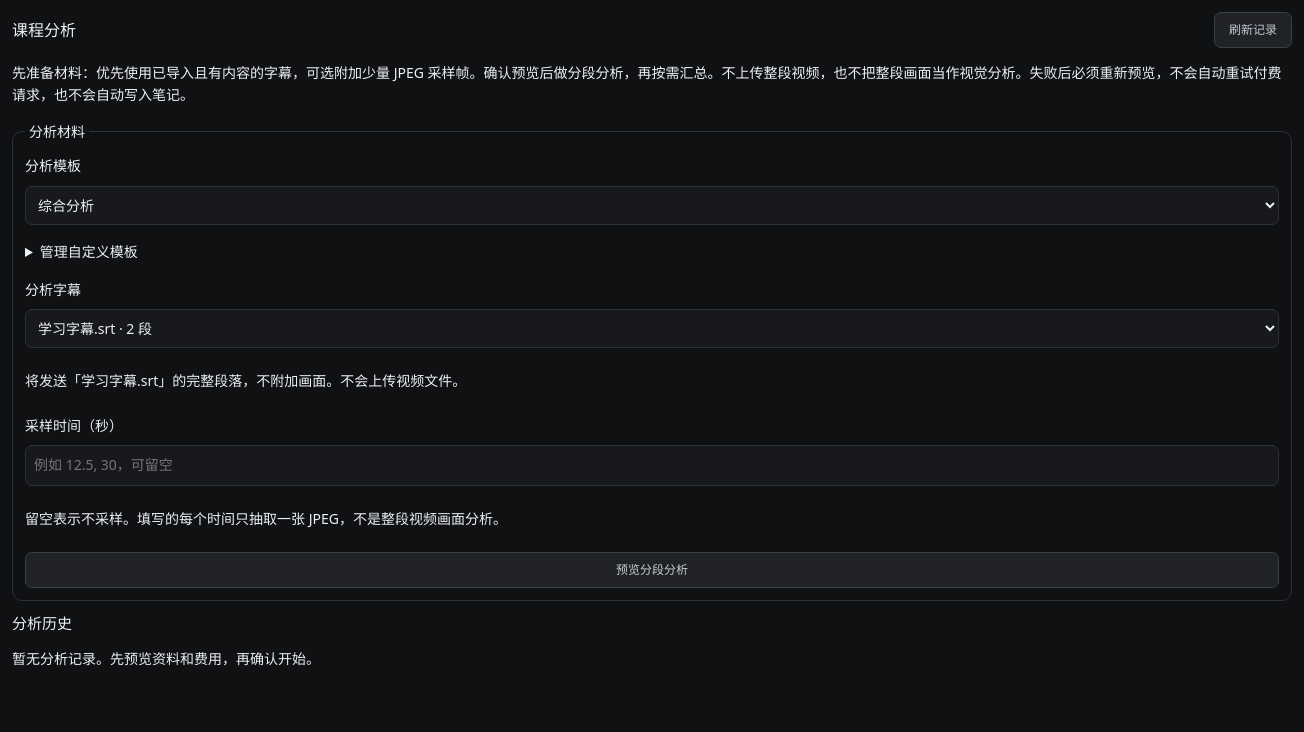
Test: previews explicit materials and costs but sends no paid task until separate consent
Type "12.5, 30" into the field labelled "采样时间（秒）". click: (652, 465)
box: 25,445 -> 1279,486
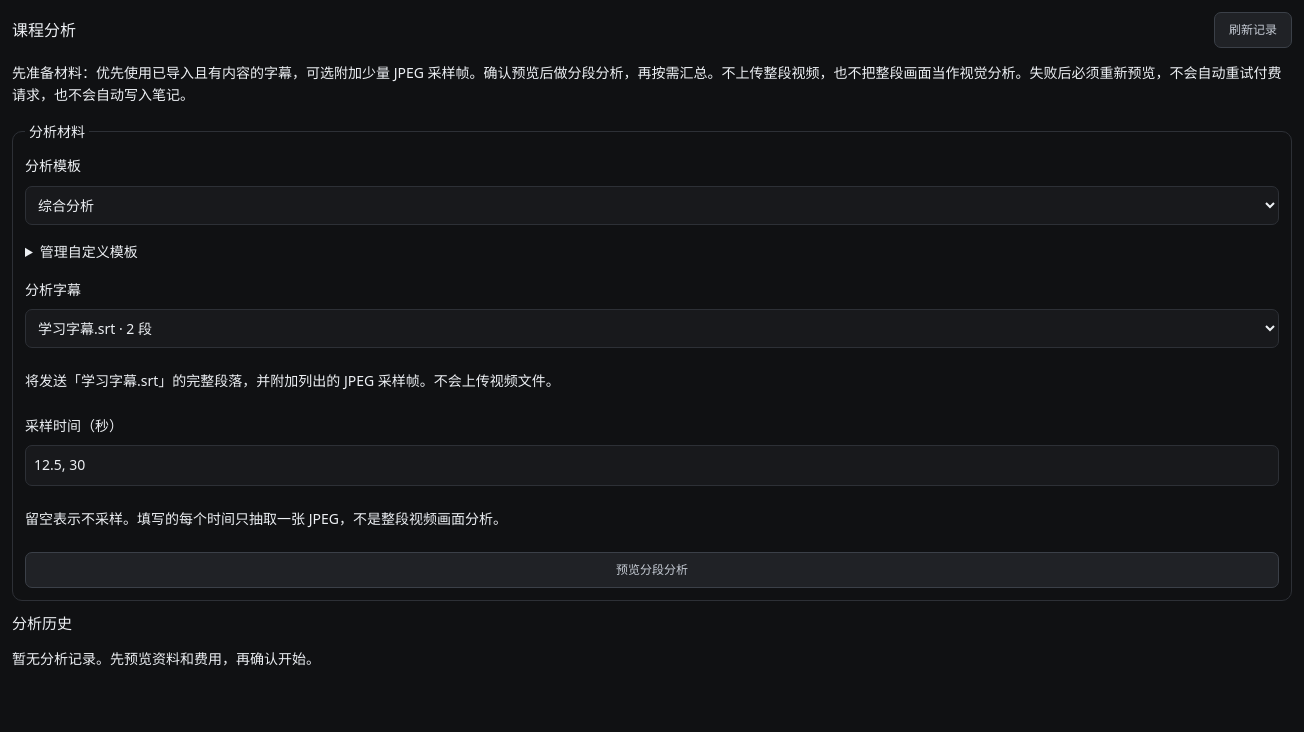
Click the button "预览分段分析". click: (652, 570)
box: 25,552 -> 1279,588
(page scrolled)
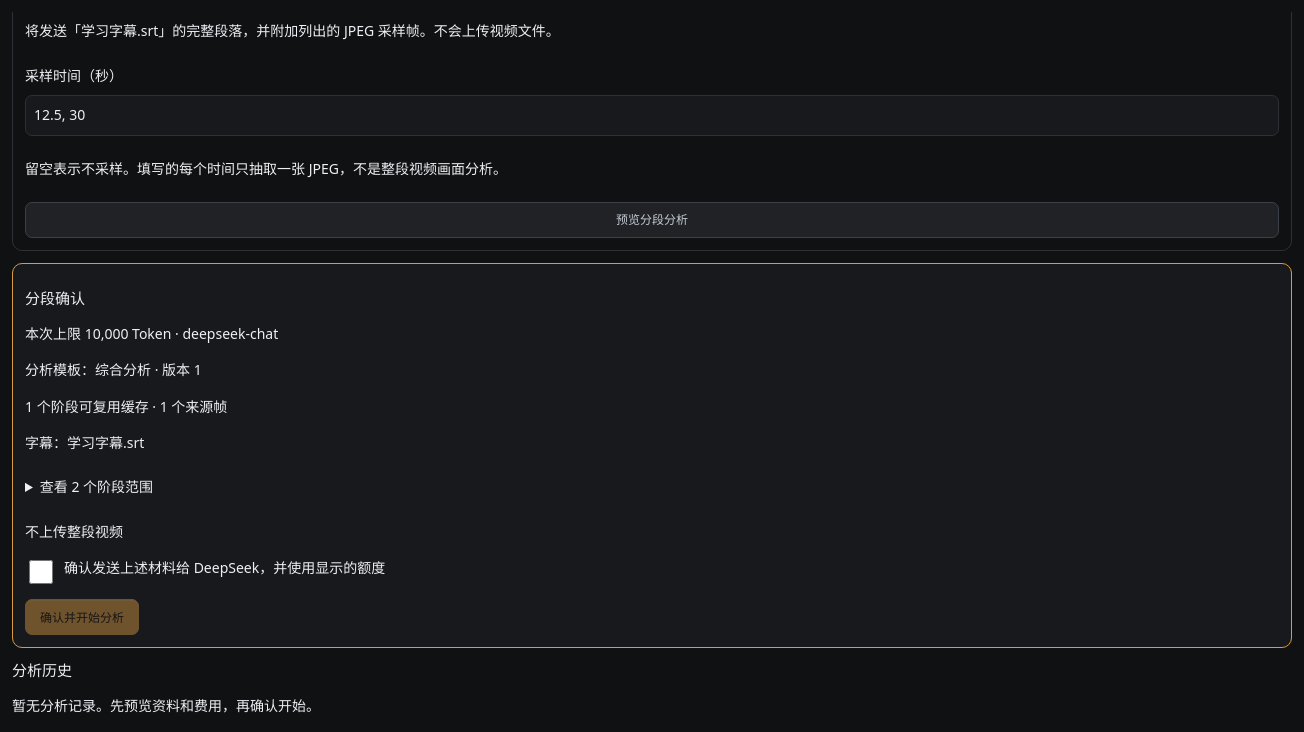
expect the text "本次上限 10,000 Token · deepseek-chat" is shown: met, box 25,324 -> 278,343
expect the button "确认并开始分析" is disabled: met, box 25,599 -> 139,635
expect the text "1 个阶段可复用缓存 · 1 个来源帧" is shown: met, box 25,397 -> 227,416
Click the checkbox labelled "确认发送上述材料给 DeepSeek，并使用显示的额度". click: (41, 572)
box: 29,560 -> 53,584
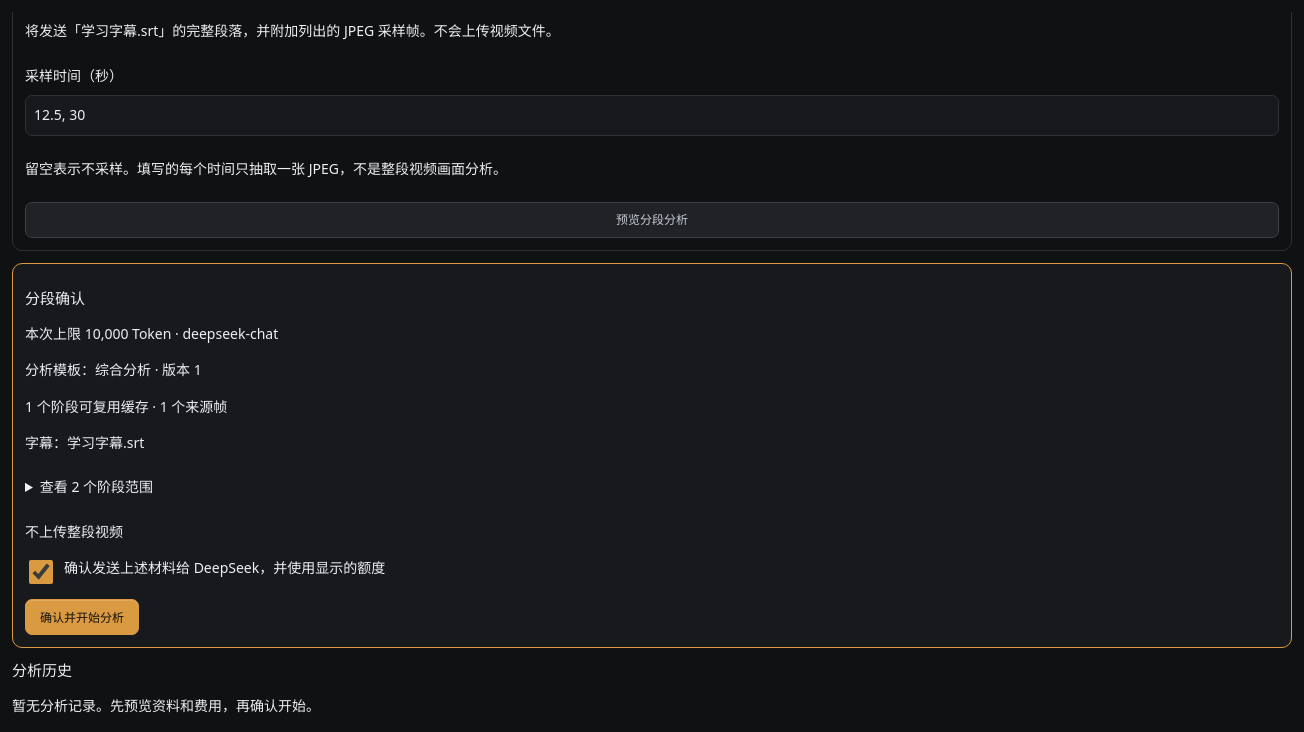
Click the button "确认并开始分析". click: (82, 617)
box: 25,599 -> 139,635
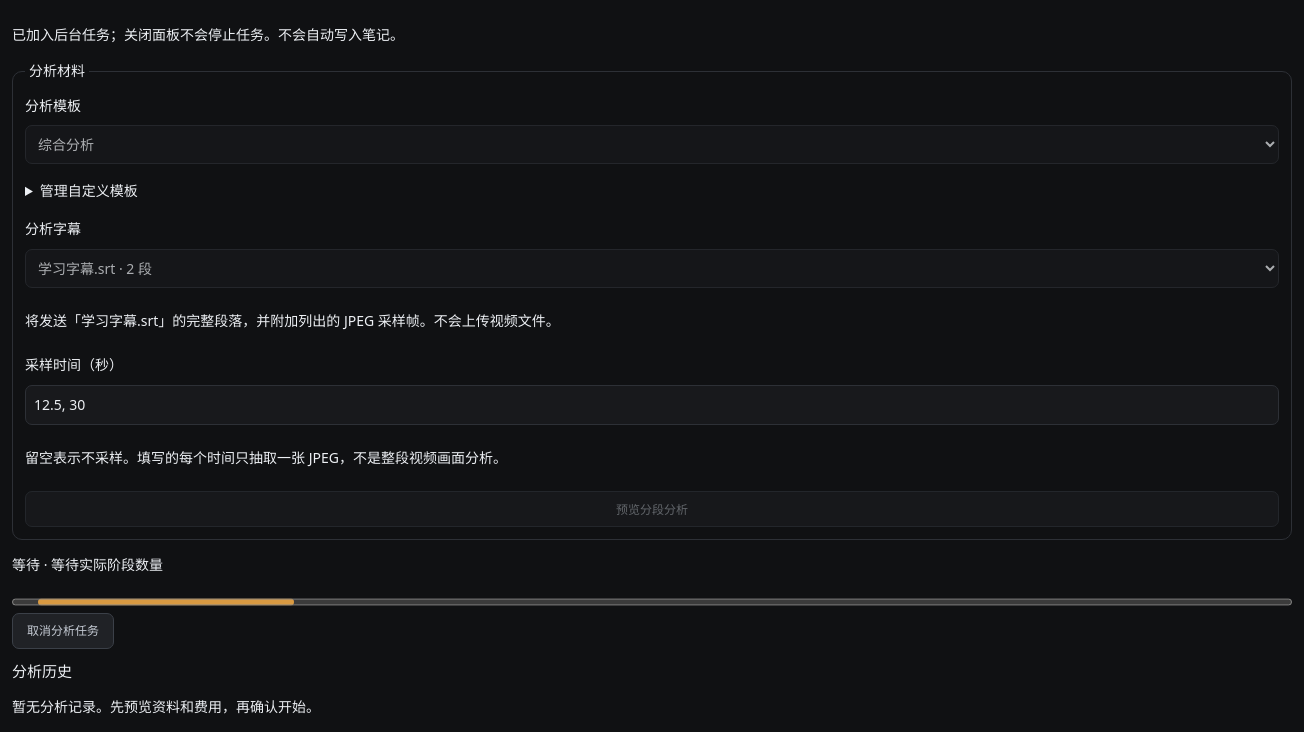
expect the text "已加入后台任务；关闭面板不会停止任务。不会自动写入笔记。" is shown: met, box 12,25 -> 404,44
